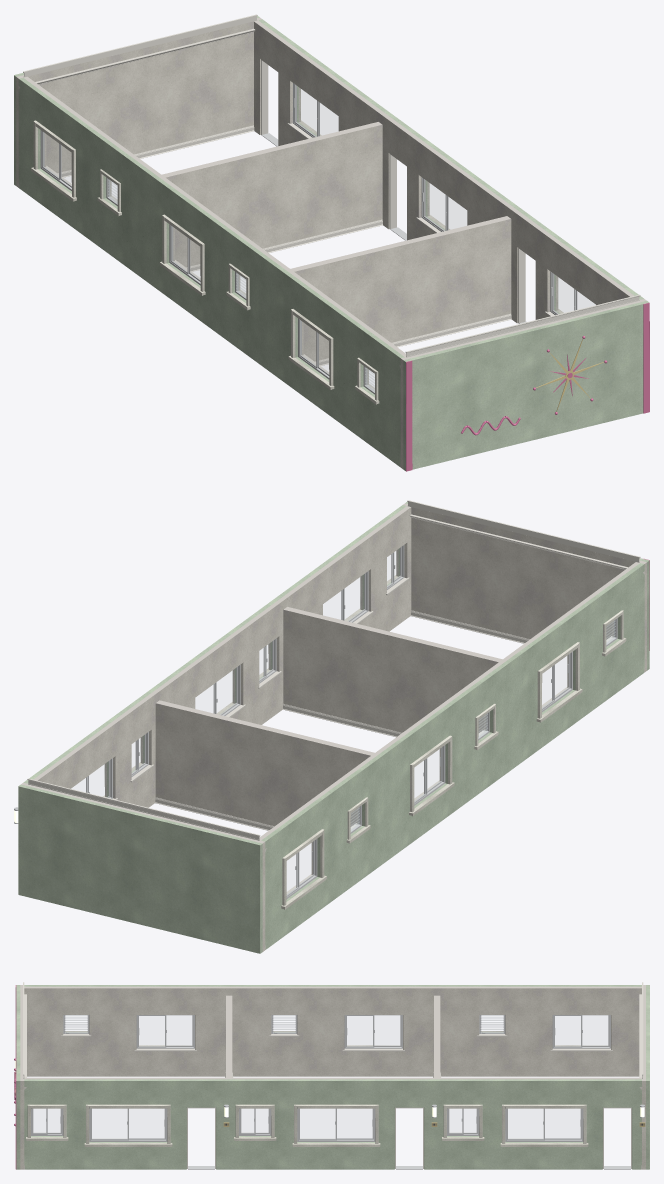
File: envelope_w_upper.glb
3 views of the same model, one above another, from view 1: azimuth 30°, elevation 25°; view 2: azimuth 150°, elevation 25°; view 3: azimuth 270°, elevation 25° (orthographic). The views are drawn at different scales.
Visible parts, largest first — view 1: envelope_w_upper_plaster, envelope_w_upper_stucco, molduras, envelope_w_upper_glass, envelope_w_upper_stucco_w, envelope_w_upper_alu, envelope_w_upper_trim, envelope_w_upper_accent; view 2: envelope_w_upper_plaster, envelope_w_upper_stucco, molduras, envelope_w_upper_glass, envelope_w_upper_stucco_w, envelope_w_upper_alu, envelope_w_upper_trim; view 3: envelope_w_upper_plaster, envelope_w_upper_stucco, envelope_w_upper_glass, envelope_w_upper_stucco_w, envelope_w_upper_alu, envelope_w_upper_trim, molduras, envelope_w_upper_jal, envelope_w_upper_accent.
Boxes of the visible parts, left/top/right/bottom form: envelope_w_upper_plaster: left=16, top=17, right=646, bottom=468; envelope_w_upper_stucco: left=14, top=16, right=648, bottom=470; molduras: left=18, top=14, right=640, bottom=466; envelope_w_upper_glass: left=43, top=86, right=594, bottom=373; envelope_w_upper_stucco_w: left=31, top=87, right=563, bottom=404; envelope_w_upper_alu: left=40, top=83, right=577, bottom=394; envelope_w_upper_trim: left=45, top=59, right=554, bottom=390; envelope_w_upper_accent: left=406, top=302, right=649, bottom=471; envelope_w_upper_plaster: left=21, top=503, right=646, bottom=951; envelope_w_upper_stucco: left=18, top=502, right=649, bottom=953; molduras: left=27, top=500, right=644, bottom=949; envelope_w_upper_glass: left=72, top=549, right=568, bottom=894; envelope_w_upper_stucco_w: left=103, top=549, right=626, bottom=909; envelope_w_upper_alu: left=86, top=545, right=617, bottom=898; envelope_w_upper_trim: left=112, top=577, right=613, bottom=894; envelope_w_upper_plaster: left=20, top=985, right=645, bottom=1169; envelope_w_upper_stucco: left=16, top=985, right=649, bottom=1169; envelope_w_upper_glass: left=34, top=1016, right=607, bottom=1138; envelope_w_upper_stucco_w: left=26, top=1031, right=607, bottom=1146; envelope_w_upper_alu: left=31, top=1015, right=630, bottom=1169; envelope_w_upper_trim: left=33, top=1034, right=631, bottom=1168; molduras: left=23, top=982, right=643, bottom=1169; envelope_w_upper_jal: left=65, top=1015, right=503, bottom=1031; envelope_w_upper_accent: left=14, top=985, right=16, bottom=1169.
Size of the model in its own units: 7.35 by 3.15 by 19.57.
Materials: 14 (3 with a texture image).
